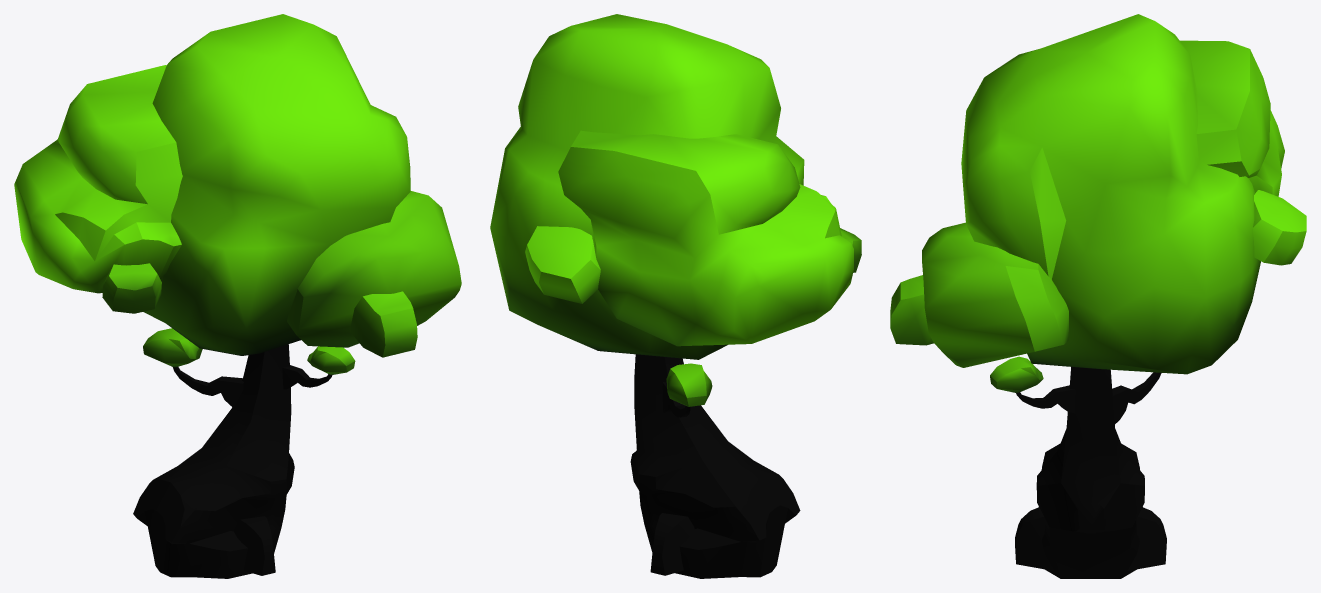
Rendered from FOL_Foliage_03.FBX.
The picture shows the model from 3 angles, left to right: view 1: azimuth 30°, elevation 25°; view 2: azimuth 150°, elevation 25°; view 3: azimuth 270°, elevation 25°; orthographic projection. The views are drawn at different scales.
Visible parts, largest first — view 1: FOL_Foliage_03; view 2: FOL_Foliage_03; view 3: FOL_Foliage_03.
Boxes of the visible parts, x1,y1,x2,y2 form: FOL_Foliage_03: (14,14,461,578); FOL_Foliage_03: (490,14,861,578); FOL_Foliage_03: (890,14,1306,578).
Size of the model in its own units: 0.1366 by 0.1982 by 0.143.
